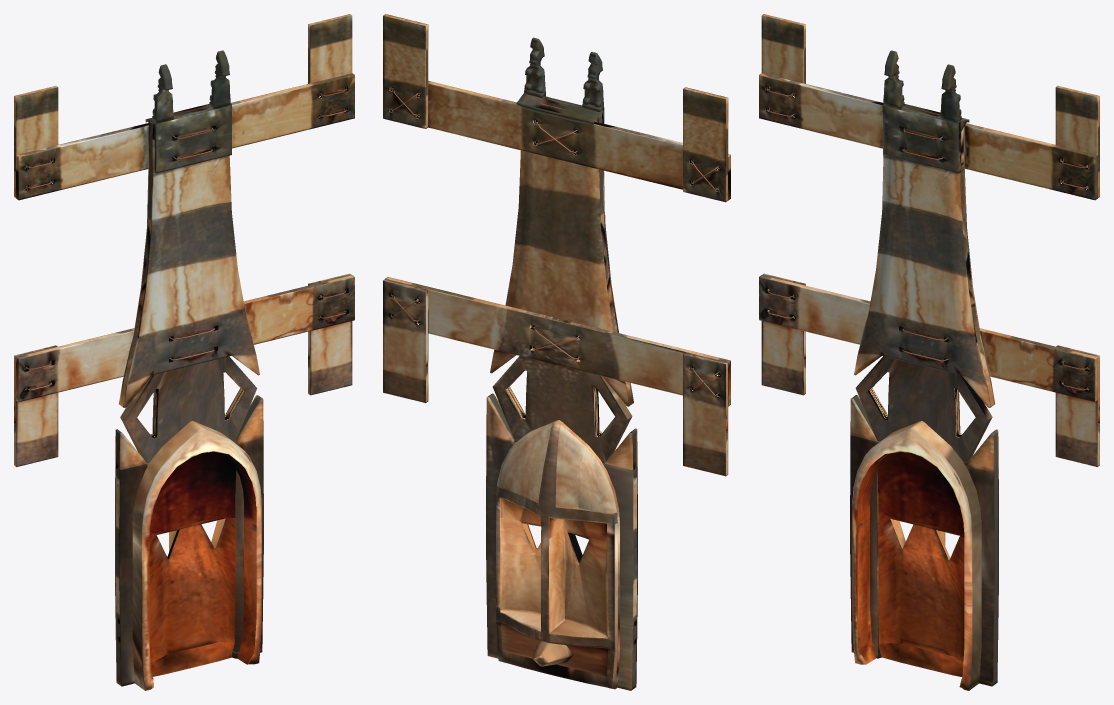
Rendered from masque.glb.
The picture shows the model from 3 angles, left to right: view 1: azimuth 30°, elevation 25°; view 2: azimuth 150°, elevation 25°; view 3: azimuth 330°, elevation 25°; orthographic projection. The views are drawn at different scales.
Parts seen in each view (by area): view 1: Cube, Cube.008, Cube.007, Cube.006, Cube.001, Cube.002, Cube.003, Cube.004, Cube.011, Corde.001; view 2: Cube.008, Cube, Cube.006, Cube.007, Cube.002, Cube.003, Cube.001, Cube.011, Cube.004, Cube.009, Corde.001; view 3: Cube, Cube.008, Cube.007, Cube.006, Cube.001, Cube.002, Cube.003, Cube.004, Cube.011, Corde.001.
Part boxes in pixels (x1,y1,x2,y2): Cube: (115, 107, 263, 686); Cube.008: (132, 421, 261, 690); Cube.007: (16, 73, 354, 200); Cube.006: (16, 275, 354, 402); Cube.001: (120, 356, 257, 463); Cube.002: (14, 273, 352, 466); Cube.003: (14, 14, 352, 197); Cube.004: (145, 103, 231, 173); Cube.011: (152, 50, 230, 123); Corde.001: (25, 89, 345, 360); Cube.008: (496, 420, 619, 689); Cube: (486, 103, 637, 690); Cube.006: (385, 277, 730, 406); Cube.007: (391, 81, 730, 200); Cube.002: (383, 279, 728, 476); Cube.003: (383, 14, 728, 202); Cube.001: (492, 356, 632, 462); Cube.011: (524, 37, 604, 111); Cube.004: (516, 93, 604, 124); Cube.009: (533, 641, 572, 666); Corde.001: (392, 88, 718, 359); Cube: (850, 108, 998, 686); Cube.008: (852, 421, 981, 690); Cube.007: (759, 73, 1097, 200); Cube.006: (759, 275, 1097, 401); Cube.001: (855, 356, 992, 462); Cube.002: (761, 273, 1099, 466); Cube.003: (761, 14, 1099, 197); Cube.004: (883, 104, 969, 173); Cube.011: (883, 50, 961, 122); Corde.001: (768, 89, 1088, 390).
Size of the model in its own units: 2.03 by 3.53 by 0.3528.
Materials: 2 (2 with a texture image).
